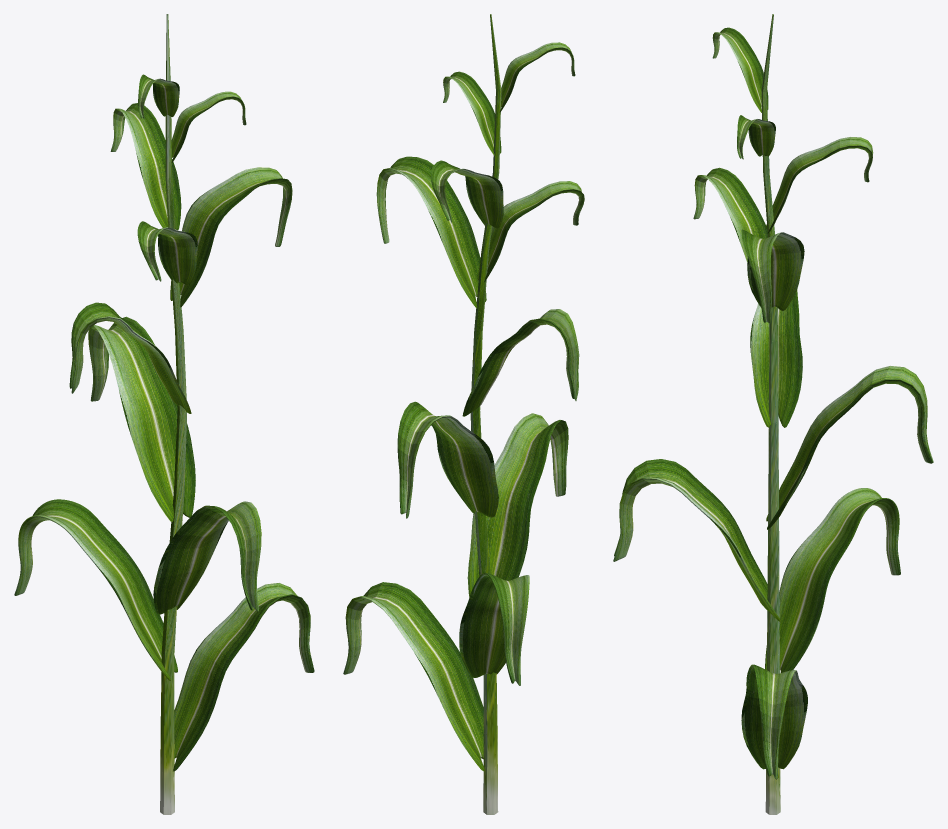
The model's file is Corn-MediumPoly.fbx.
3 views of the same model, side by side, from view 1: azimuth 30°, elevation 25°; view 2: azimuth 150°, elevation 25°; view 3: azimuth 270°, elevation 25° (orthographic).
Visible parts, largest first — view 1: Plane.001, Plane, Plane.008, Plane.003, Cylinder, Plane.004, Plane.005, Plane.002, Plane.006, Plane.007, Plane.009; view 2: Plane, Plane.003, Plane.001, Plane.008, Cylinder, Plane.004, Plane.002, Plane.005, Plane.006, Plane.007, Plane.009; view 3: Plane.008, Cylinder, Plane, Plane.003, Plane.002, Plane.001, Plane.004, Plane.006, Plane.005, Plane.009, Plane.007.
Part boxes in pixels (bbox=[...]): Plane.001: bbox=[88, 316, 195, 521]; Plane: bbox=[173, 583, 314, 771]; Plane.008: bbox=[14, 499, 177, 680]; Plane.003: bbox=[153, 501, 261, 614]; Cylinder: bbox=[160, 14, 186, 814]; Plane.004: bbox=[170, 167, 292, 307]; Plane.005: bbox=[110, 103, 181, 230]; Plane.002: bbox=[69, 302, 191, 413]; Plane.006: bbox=[137, 221, 197, 285]; Plane.007: bbox=[171, 91, 246, 162]; Plane.009: bbox=[138, 74, 179, 118]; Plane: bbox=[343, 582, 484, 771]; Plane.003: bbox=[467, 413, 568, 596]; Plane.001: bbox=[397, 401, 498, 518]; Plane.008: bbox=[459, 573, 529, 685]; Cylinder: bbox=[470, 14, 501, 814]; Plane.004: bbox=[376, 156, 486, 308]; Plane.002: bbox=[462, 309, 579, 416]; Plane.005: bbox=[431, 160, 503, 228]; Plane.006: bbox=[477, 181, 584, 282]; Plane.007: bbox=[443, 71, 501, 155]; Plane.009: bbox=[499, 42, 575, 112]; Plane.008: bbox=[765, 488, 900, 672]; Cylinder: bbox=[761, 14, 780, 814]; Plane: bbox=[741, 664, 807, 779]; Plane.003: bbox=[613, 459, 780, 621]; Plane.002: bbox=[750, 290, 802, 427]; Plane.001: bbox=[766, 366, 933, 529]; Plane.004: bbox=[741, 229, 804, 323]; Plane.006: bbox=[693, 167, 767, 262]; Plane.005: bbox=[766, 137, 873, 233]; Plane.009: bbox=[712, 27, 768, 112]; Plane.007: bbox=[737, 115, 775, 159].
Size of the model in its own units: 62.52 by 201 by 73.04.
Materials: 1 (1 with a texture image).
